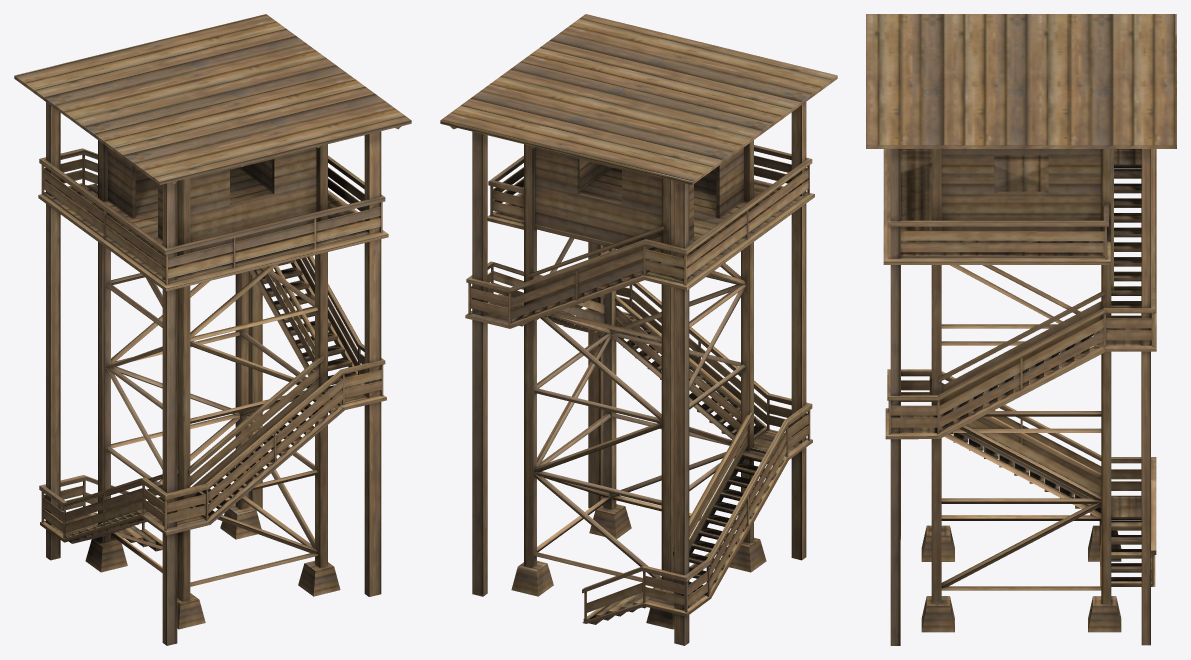
Rendered from mesh_test_tower.obj.
3 renders of one model, left to right at view 1: azimuth 30°, elevation 25°; view 2: azimuth 150°, elevation 25°; view 3: azimuth 270°, elevation 25°, orthographic. The views are drawn at different scales.
Visible parts, largest first — view 1: watchtowerHigh_watchtower; view 2: watchtowerHigh_watchtower; view 3: watchtowerHigh_watchtower.
Part boxes in pixels (x1,y1,x2,y2): watchtowerHigh_watchtower: (14,14,411,645); watchtowerHigh_watchtower: (440,14,837,645); watchtowerHigh_watchtower: (866,14,1176,645).
Size of the model in its own units: 4.22 by 7.65 by 4.22.
